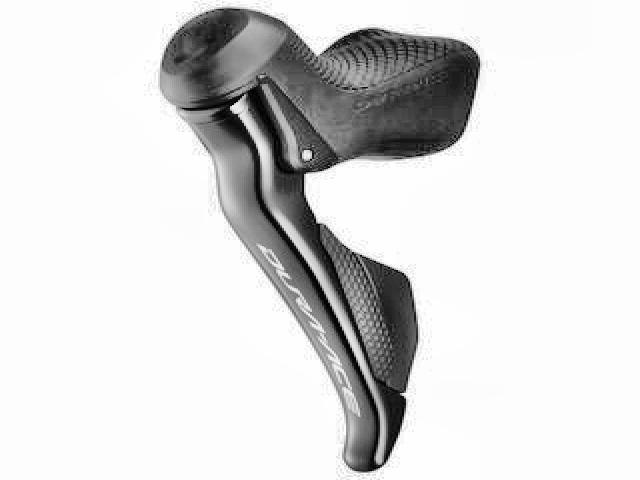sti_shifter: (160, 5, 470, 471)
